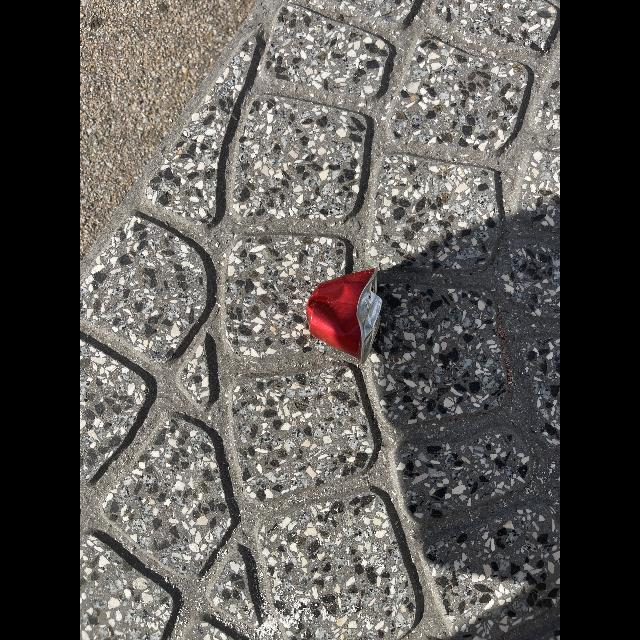damaged_capsule: (297, 255, 397, 378)
